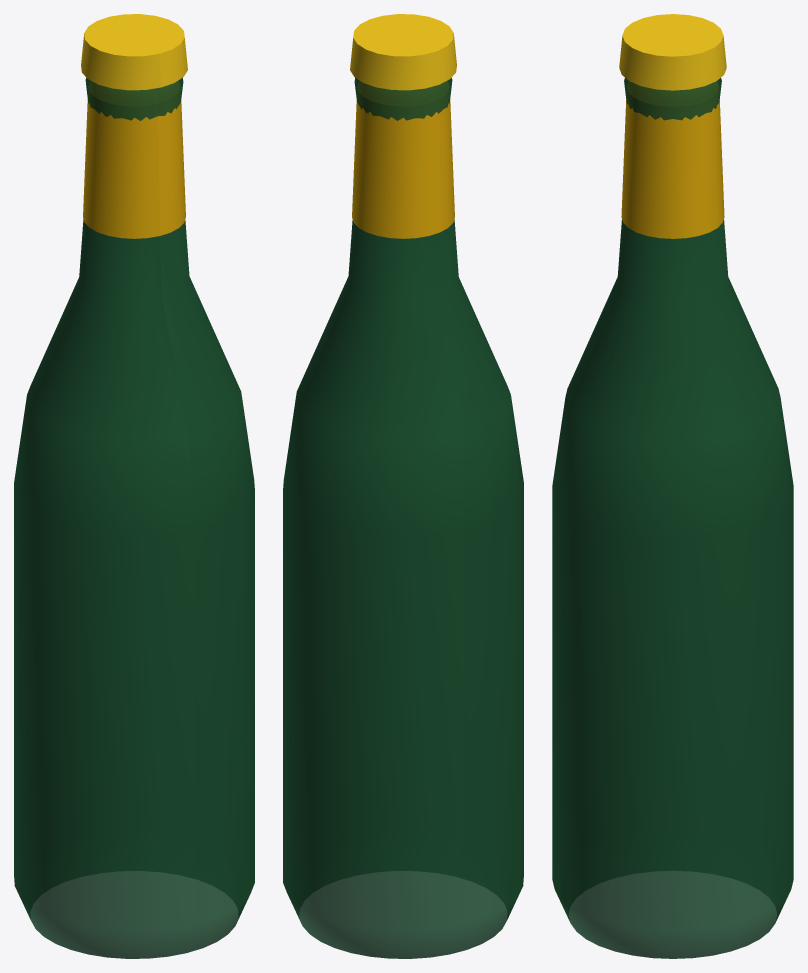
Rendered from glass-bottle.glb.
The picture shows the model from 3 angles, left to right: view 1: azimuth 30°, elevation 25°; view 2: azimuth 150°, elevation 25°; view 3: azimuth 270°, elevation 25°; orthographic projection.
Visible parts, largest first — view 1: Glass_Body, Neck_Foil, Crown_Cap; view 2: Glass_Body, Neck_Foil, Crown_Cap; view 3: Glass_Body, Neck_Foil, Crown_Cap.
Part boxes in pixels (x1,y1,x2,y2): Glass_Body: (14, 77, 254, 958); Neck_Foil: (83, 100, 185, 238); Crown_Cap: (81, 14, 187, 90); Glass_Body: (283, 77, 523, 958); Neck_Foil: (352, 100, 454, 238); Crown_Cap: (350, 14, 456, 90); Glass_Body: (552, 78, 793, 958); Neck_Foil: (621, 100, 724, 238); Crown_Cap: (619, 14, 726, 90).
Size of the model in its own units: 0.074 by 0.2975 by 0.074.
